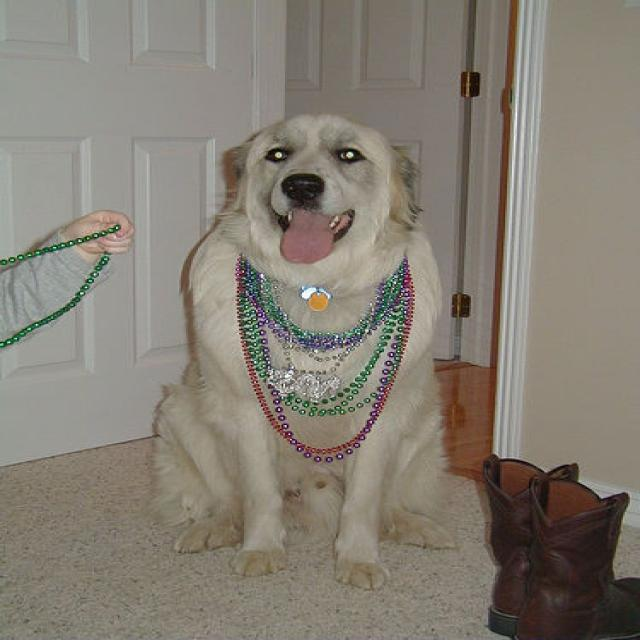dog-great_pyrenees: (142, 104, 459, 596)
